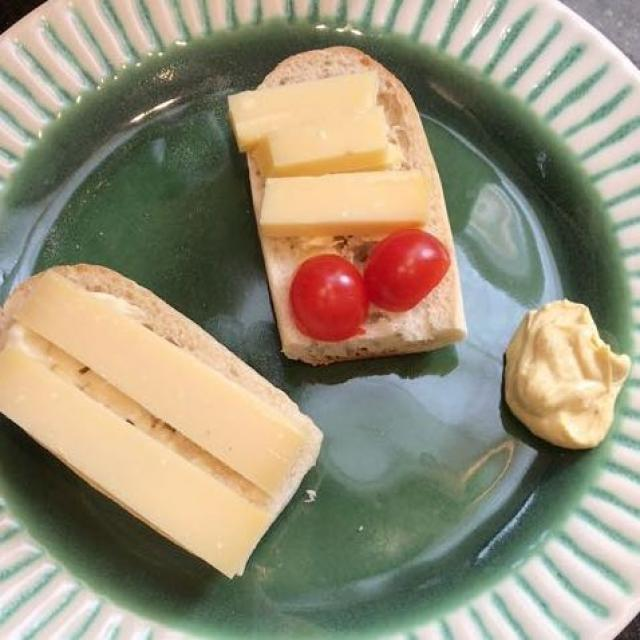bread: (1, 45, 476, 605)
cheese: (0, 66, 446, 587)
mayonnaise: (486, 293, 634, 459)
tomato: (286, 230, 457, 334)
